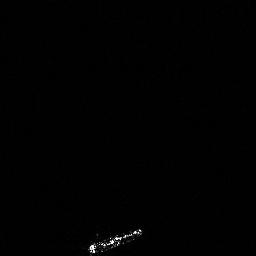ship: (84, 222, 148, 256)
